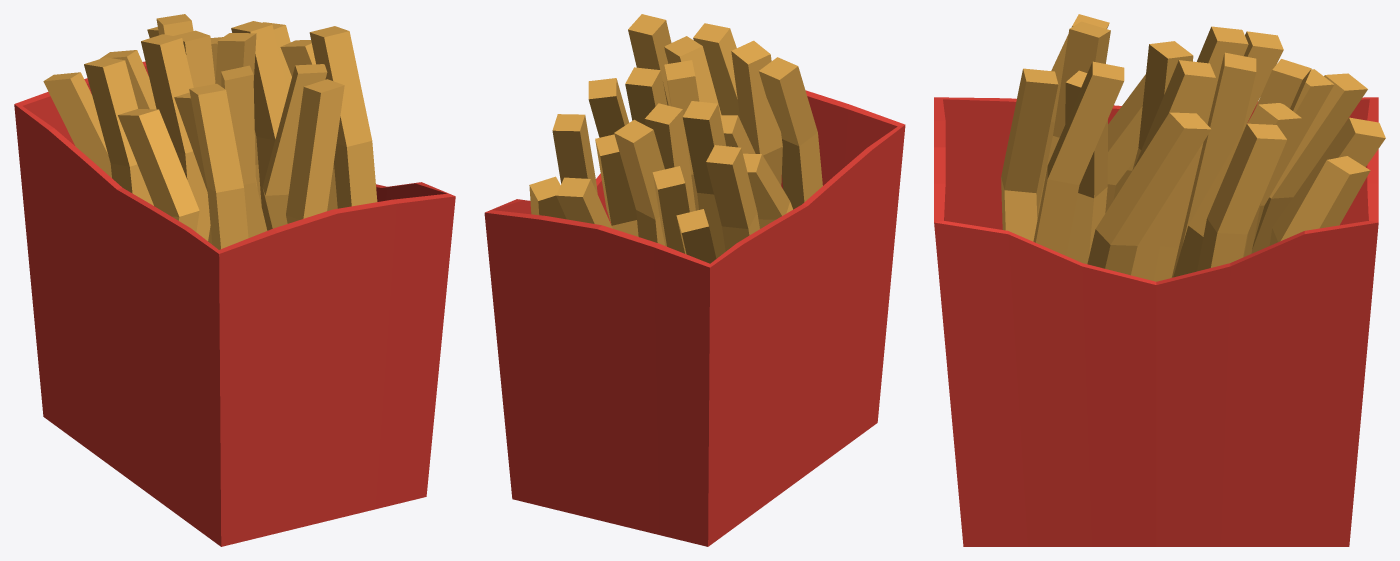
Rendered from Potato.fbx.
3 renders of one model, left to right at view 1: azimuth 30°, elevation 25°; view 2: azimuth 150°, elevation 25°; view 3: azimuth 270°, elevation 25°, orthographic. The views are drawn at different scales.
Parts seen in each view (by area): view 1: Box, Potato; view 2: Box, Potato; view 3: Box, Potato.
Part boxes in pixels (x1=…): Box: x1=14, y1=61, x2=455, y2=546; Potato: x1=43, y1=14, x2=377, y2=249; Box: x1=484, y1=90, x2=905, y2=546; Potato: x1=529, y1=14, x2=822, y2=263; Box: x1=934, y1=97, x2=1378, y2=546; Potato: x1=1001, y1=14, x2=1385, y2=281.
Size of the model in its own units: 461 by 794 by 703.
